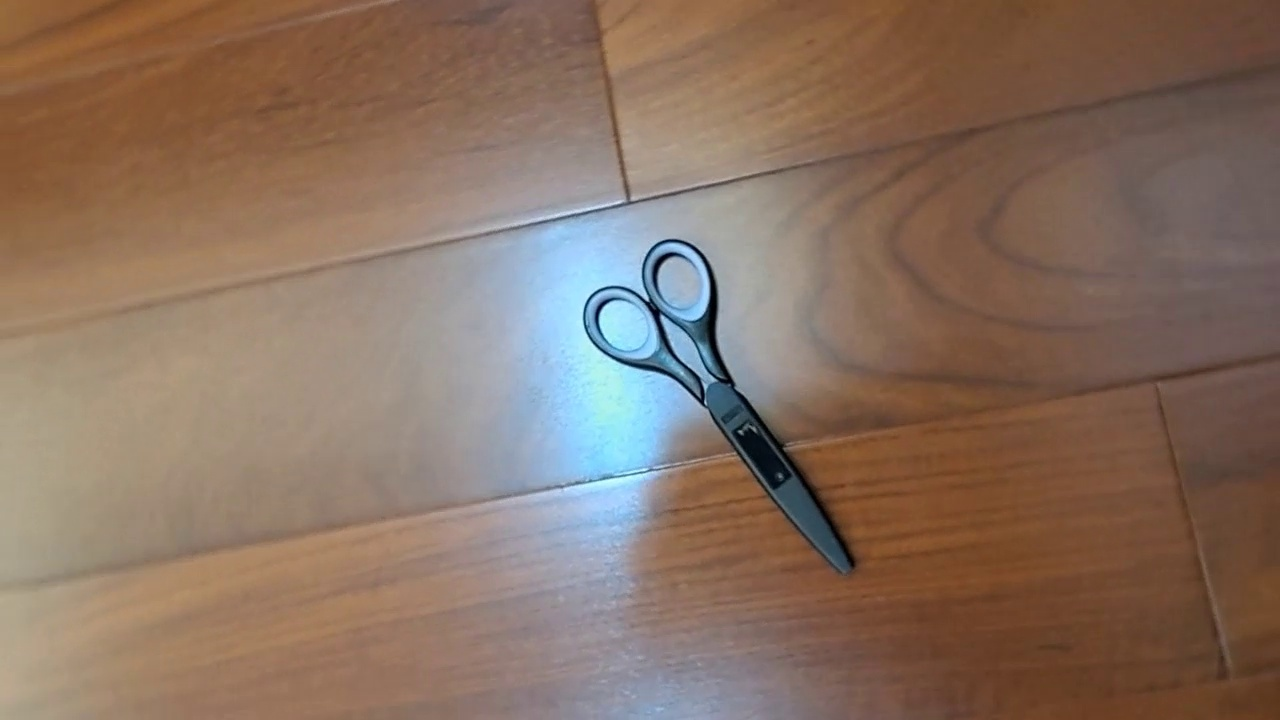scissors: (581, 238, 858, 577)
